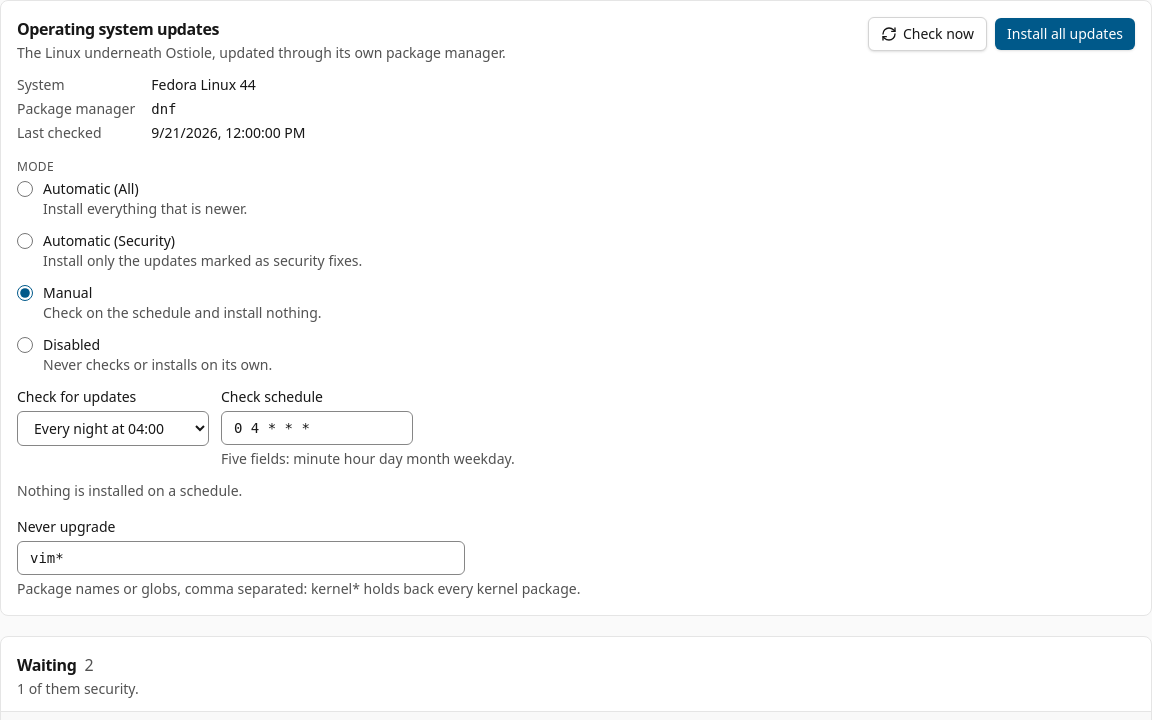
Test: OsUpdatesSection › marks what is never upgraded and installs the rest
The image size is (1152, 720).
Click the button "Install all updates" at (1065, 34), box [995,18,1135,50]
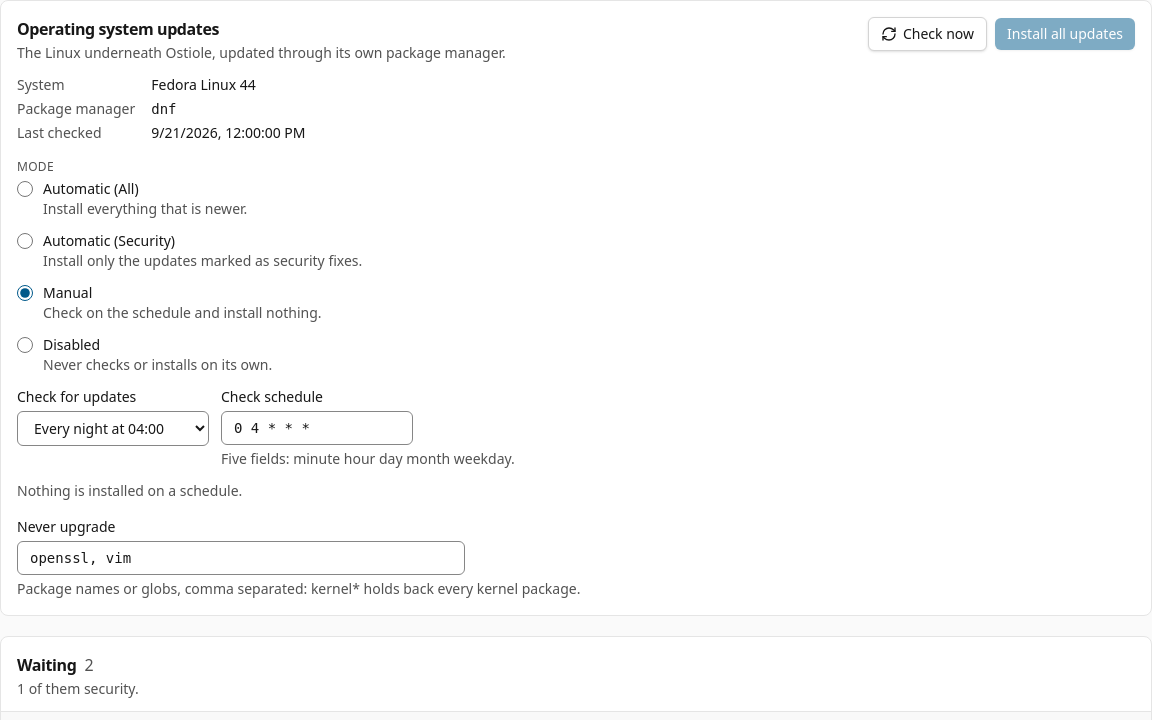
Check: the button "Install all updates" is disabled, box [995,18,1135,50]
